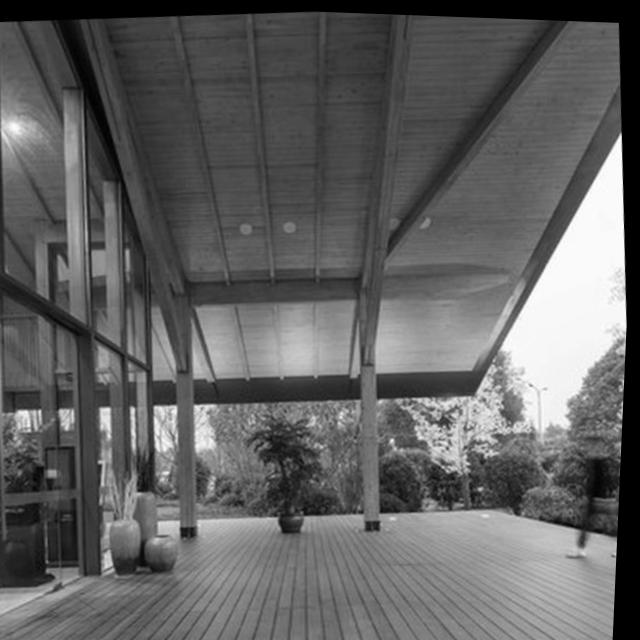building: (0, 11, 188, 640)
